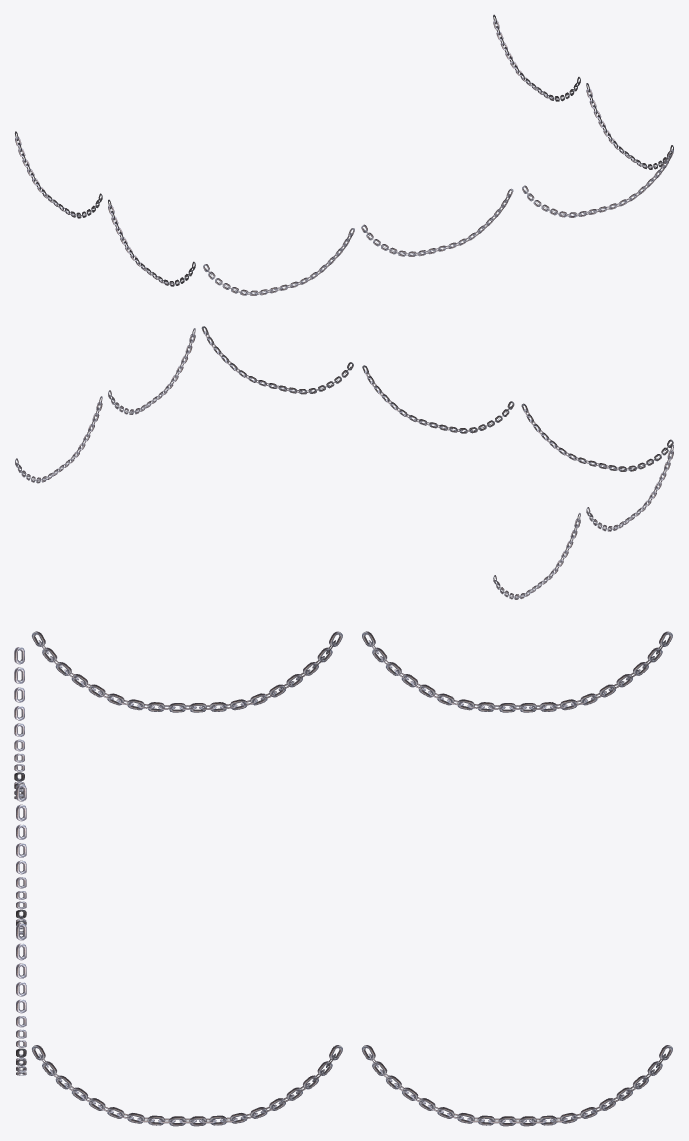
File: found_chains_dock_4x4.dae
3 views of the same model, one above another, from view 1: azimuth 30°, elevation 25°; view 2: azimuth 150°, elevation 25°; view 3: azimuth 270°, elevation 25° (orthographic). The views are drawn at different scales.
Visible parts, largest first — view 1: Plane066; view 2: Plane066; view 3: Plane066.
Part boxes in pixels (x1,y1,x2,y2): Plane066: [15, 14, 673, 295]; Plane066: [15, 326, 673, 599]; Plane066: [14, 631, 672, 1126].
Size of the model in its own units: 19.47 by 1.81 by 13.
